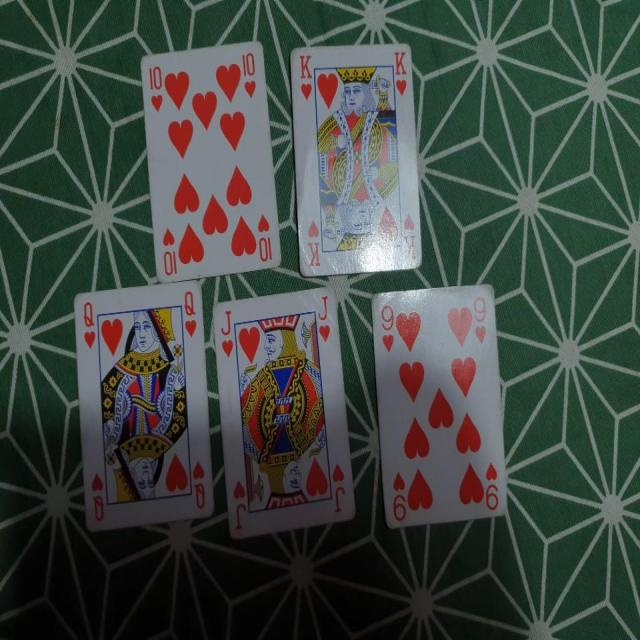10 Hearts: (135, 34, 282, 285)
9 Hearts: (364, 278, 522, 537)
J Hearts: (210, 281, 363, 550)
K Hearts: (287, 32, 427, 284)
Q Hearts: (67, 274, 220, 532)
